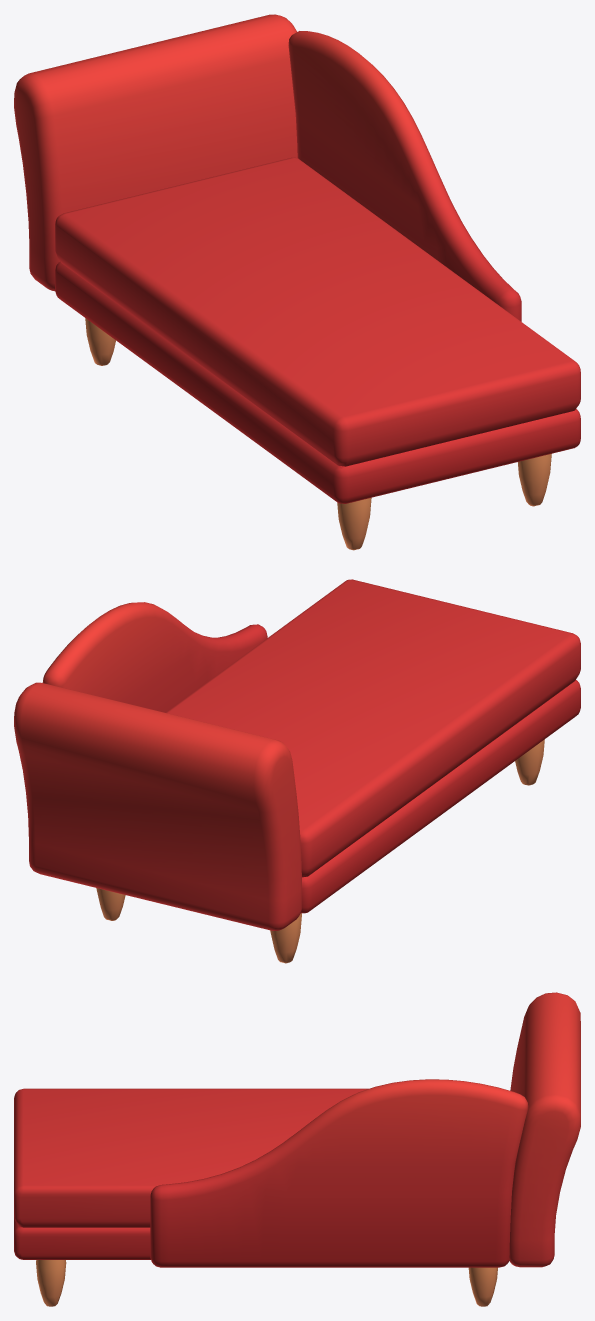
The model's file is Couch_03.glb.
3 views of the same model, one above another, from view 1: azimuth 30°, elevation 25°; view 2: azimuth 150°, elevation 25°; view 3: azimuth 270°, elevation 25° (orthographic). The views are drawn at different scales.
Visible parts, largest first — view 1: Couch_03; view 2: Couch_03; view 3: Couch_03.
Part boxes in pixels (left/top/right/bottom): Couch_03: left=14, top=14, right=580, bottom=550; Couch_03: left=14, top=579, right=580, bottom=963; Couch_03: left=14, top=992, right=580, bottom=1306.
Bounding box in the file's own units: 0.84 × 0.8457 × 1.8.
1 material, 1 textured.
